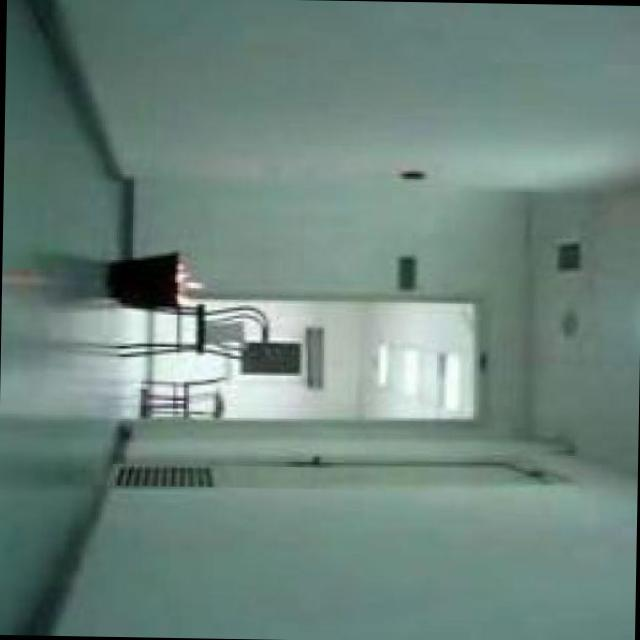Fire: (173, 259, 203, 311)
